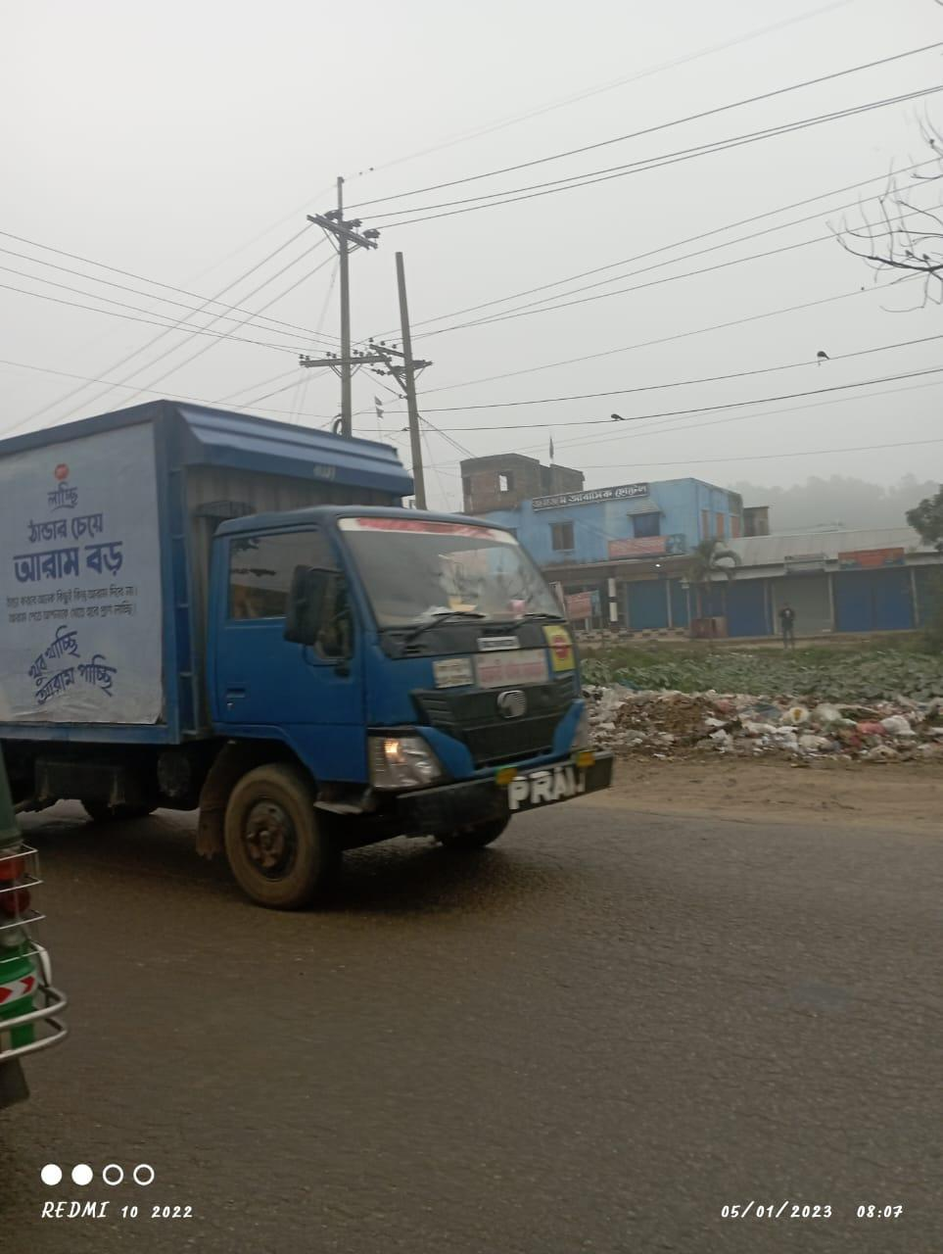Truck: (2, 387, 629, 906)
